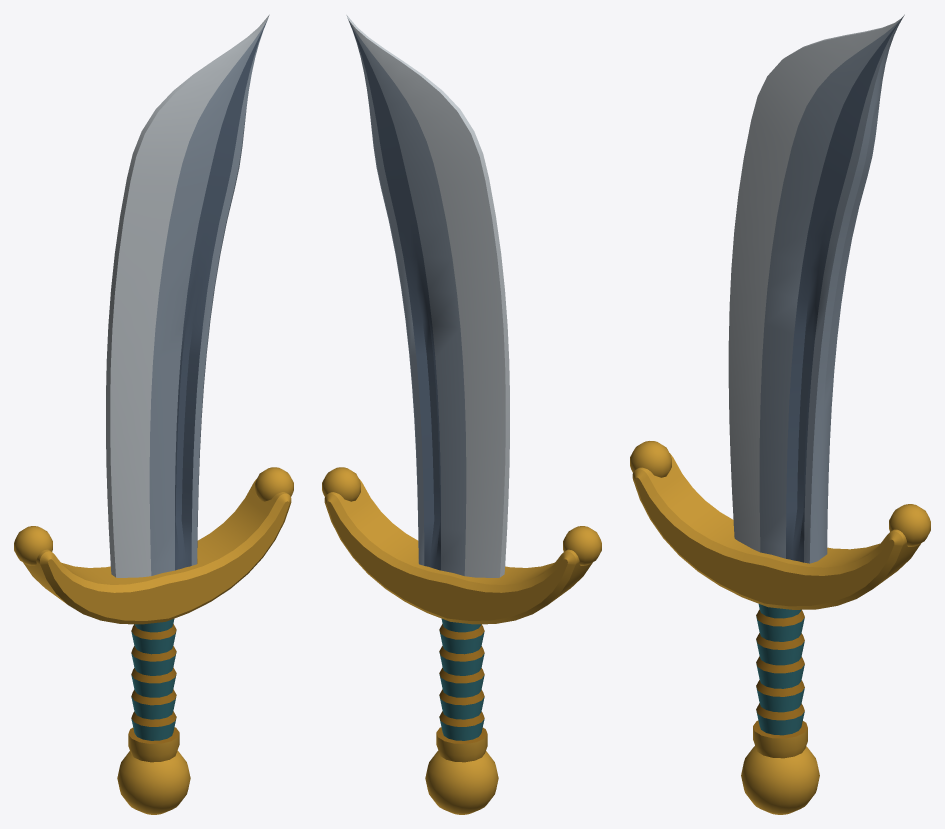
Rendered from Scimitar_04.glb.
3 renders of one model, left to right at view 1: azimuth 30°, elevation 25°; view 2: azimuth 150°, elevation 25°; view 3: azimuth 330°, elevation 25°, orthographic. The views are drawn at different scales.
Parts seen in each view (by area): view 1: Scimitar_04; view 2: Scimitar_04; view 3: Scimitar_04.
Part boxes in pixels (left/top/right/bottom): Scimitar_04: left=14, top=14, right=293, bottom=814; Scimitar_04: left=322, top=14, right=601, bottom=814; Scimitar_04: left=630, top=14, right=930, bottom=814.
Size of the model in its own units: 2.38 by 6.36 by 0.55.
